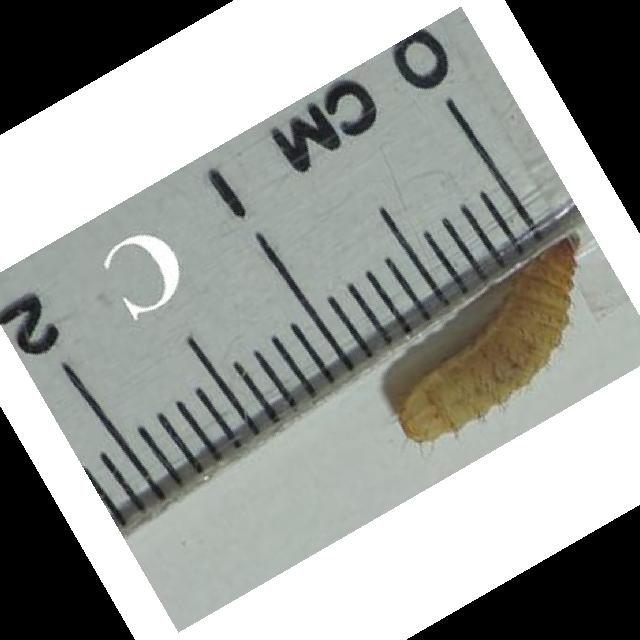Maggot: (394, 229, 590, 444)
